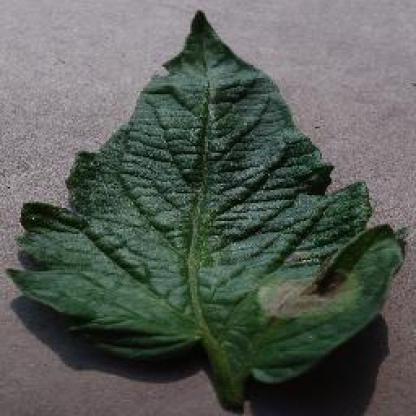bad leaf: (16, 12, 283, 86)
good leaf: (29, 86, 376, 388)
